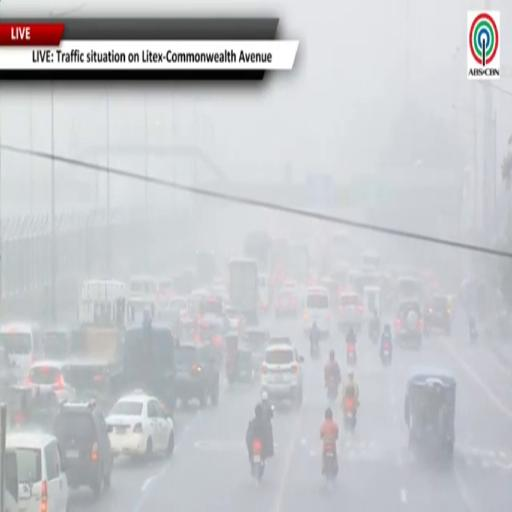car: (54, 400, 113, 498), (6, 432, 68, 511), (107, 390, 174, 456), (124, 324, 176, 408), (176, 341, 219, 407), (261, 344, 303, 406), (5, 384, 59, 430), (27, 361, 74, 402), (395, 299, 423, 348), (304, 286, 330, 337), (424, 295, 451, 335), (245, 328, 269, 370), (338, 292, 363, 332), (274, 290, 298, 317), (268, 336, 291, 345)
motorcycle: (324, 443, 338, 485), (252, 440, 264, 482), (344, 397, 356, 431), (380, 341, 392, 366), (327, 376, 338, 401), (346, 343, 356, 365), (368, 326, 380, 344), (310, 341, 319, 359), (470, 328, 477, 343)
truck: (67, 280, 128, 394), (228, 259, 259, 326)
